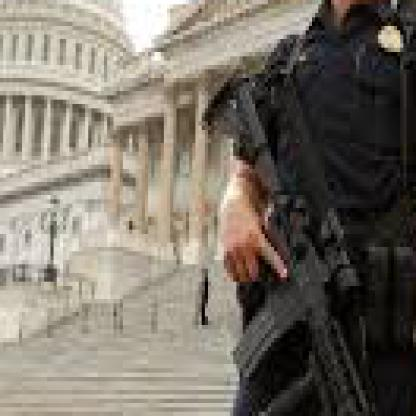gun: (142, 152, 413, 412)
